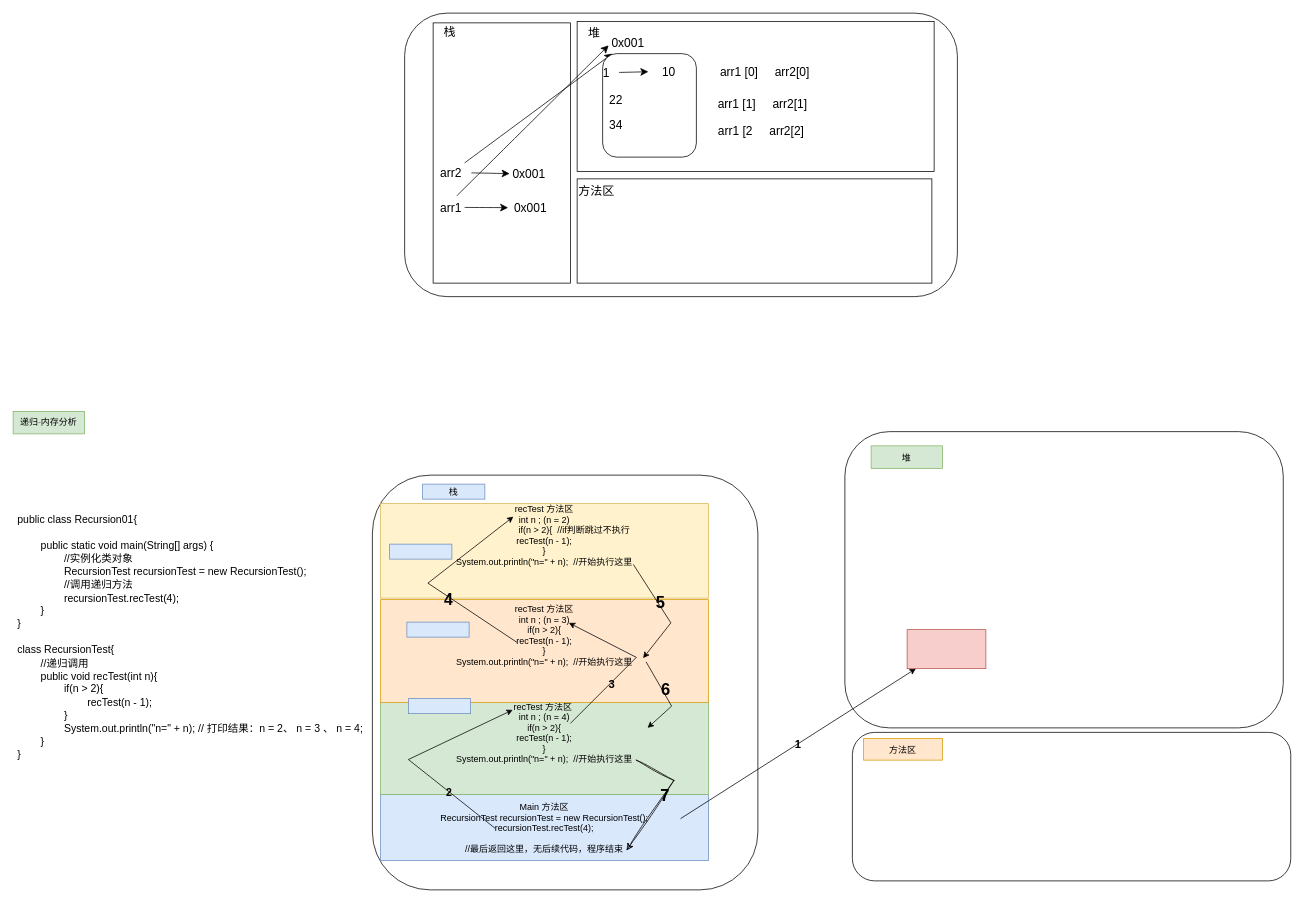
This 1304x903 diagram has some shape labels left out. Each missing label, with the centre of its shape:
n = 2的调用: the point at 420,551
n = 3的调用: the point at 437,629
n = 4的调用: the point at 439,706
Test01对象: the point at 946,649
